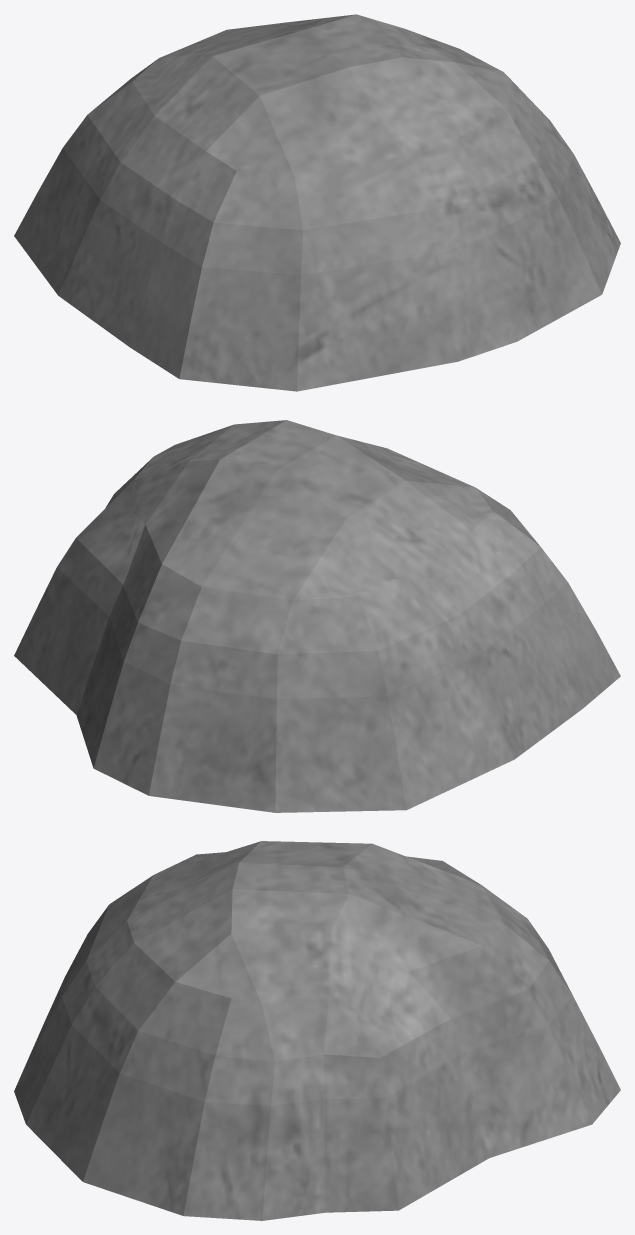
The model's file is lvl1_sea_rock_5.fbx.
The picture shows the model from 3 angles, top to bottom: view 1: azimuth 30°, elevation 25°; view 2: azimuth 150°, elevation 25°; view 3: azimuth 270°, elevation 25°; orthographic projection. The views are drawn at different scales.
Visible parts, largest first — view 1: lvl1_sea_rock_5; view 2: lvl1_sea_rock_5; view 3: lvl1_sea_rock_5.
Boxes of the visible parts, left/top/right/bottom form: lvl1_sea_rock_5: left=14, top=14, right=620, bottom=391; lvl1_sea_rock_5: left=14, top=420, right=620, bottom=812; lvl1_sea_rock_5: left=14, top=841, right=620, bottom=1220.
Size of the model in its own units: 8389 by 3644 by 8628.
